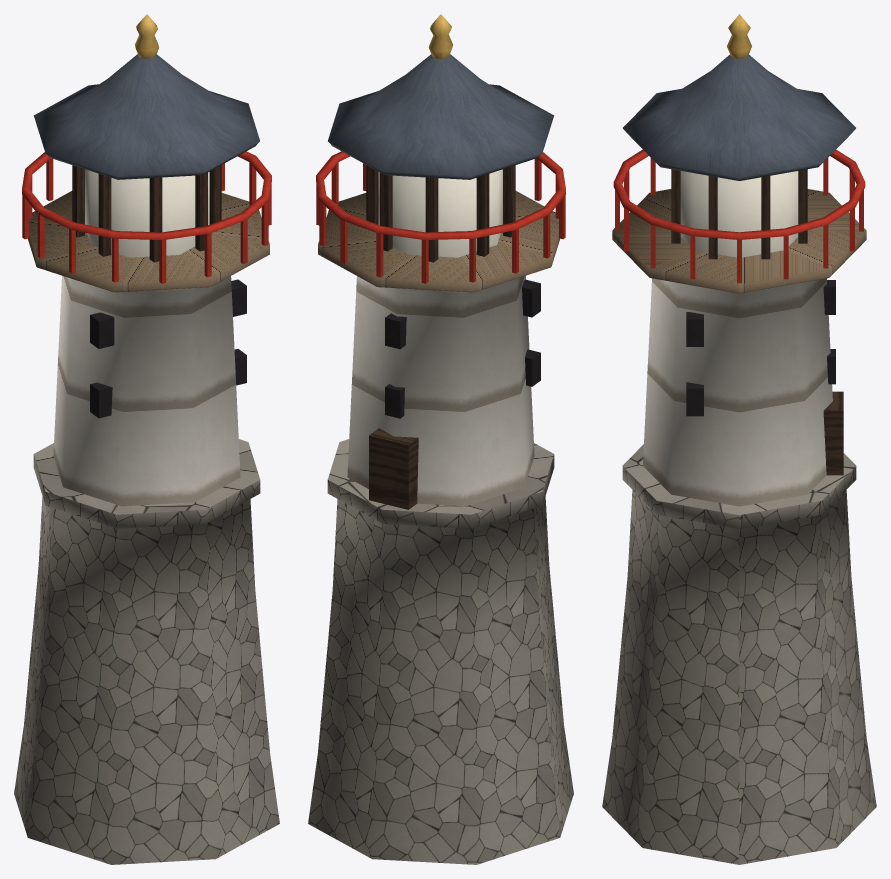
Rendered from HO_Harbour_Lighthouse.fbx.
3 renders of one model, left to right at view 1: azimuth 30°, elevation 25°; view 2: azimuth 150°, elevation 25°; view 3: azimuth 270°, elevation 25°, orthographic.
Visible parts, largest first — view 1: HO_Harbour_Lighthouse__Stone_Fitted, HO_Harbour_Lighthouse__Plaster_White, HO_Harbour_Lighthouse__RoofTile_Clay, HO_Harbour_Lighthouse__Wood_Planks, HO_Harbour_Lighthouse__Red_Lacquer, HO_Harbour_Lighthouse_Glow, HO_Harbour_Lighthouse__Timber_Dark, HO_Harbour_Lighthouse__Black_Lacquer, HO_Harbour_Lighthouse__Gold_Leaf; view 2: HO_Harbour_Lighthouse__Stone_Fitted, HO_Harbour_Lighthouse__Plaster_White, HO_Harbour_Lighthouse__RoofTile_Clay, HO_Harbour_Lighthouse__Wood_Planks, HO_Harbour_Lighthouse__Timber_Dark, HO_Harbour_Lighthouse__Red_Lacquer, HO_Harbour_Lighthouse_Glow, HO_Harbour_Lighthouse__Black_Lacquer, HO_Harbour_Lighthouse__Gold_Leaf; view 3: HO_Harbour_Lighthouse__Stone_Fitted, HO_Harbour_Lighthouse__Plaster_White, HO_Harbour_Lighthouse__RoofTile_Clay, HO_Harbour_Lighthouse__Wood_Planks, HO_Harbour_Lighthouse_Glow, HO_Harbour_Lighthouse__Red_Lacquer, HO_Harbour_Lighthouse__Timber_Dark, HO_Harbour_Lighthouse__Black_Lacquer, HO_Harbour_Lighthouse__Gold_Leaf.
Part boxes in pixels (bbox=[...]): HO_Harbour_Lighthouse__Stone_Fitted: bbox=[14, 439, 279, 864]; HO_Harbour_Lighthouse__Plaster_White: bbox=[53, 275, 240, 506]; HO_Harbour_Lighthouse__RoofTile_Clay: bbox=[33, 54, 259, 179]; HO_Harbour_Lighthouse__Wood_Planks: bbox=[28, 191, 269, 292]; HO_Harbour_Lighthouse__Red_Lacquer: bbox=[22, 151, 271, 283]; HO_Harbour_Lighthouse_Glow: bbox=[85, 169, 209, 257]; HO_Harbour_Lighthouse__Timber_Dark: bbox=[72, 165, 221, 262]; HO_Harbour_Lighthouse__Black_Lacquer: bbox=[90, 279, 246, 418]; HO_Harbour_Lighthouse__Gold_Leaf: bbox=[135, 14, 159, 58]; HO_Harbour_Lighthouse__Stone_Fitted: bbox=[308, 439, 573, 864]; HO_Harbour_Lighthouse__Plaster_White: bbox=[347, 275, 534, 506]; HO_Harbour_Lighthouse__RoofTile_Clay: bbox=[328, 54, 554, 179]; HO_Harbour_Lighthouse__Wood_Planks: bbox=[318, 191, 559, 292]; HO_Harbour_Lighthouse__Timber_Dark: bbox=[366, 165, 515, 509]; HO_Harbour_Lighthouse__Red_Lacquer: bbox=[316, 151, 565, 283]; HO_Harbour_Lighthouse_Glow: bbox=[378, 169, 502, 257]; HO_Harbour_Lighthouse__Black_Lacquer: bbox=[385, 279, 540, 418]; HO_Harbour_Lighthouse__Gold_Leaf: bbox=[428, 14, 452, 58]; HO_Harbour_Lighthouse__Stone_Fitted: bbox=[602, 444, 876, 864]; HO_Harbour_Lighthouse__Plaster_White: bbox=[643, 278, 832, 506]; HO_Harbour_Lighthouse__RoofTile_Clay: bbox=[623, 54, 855, 180]; HO_Harbour_Lighthouse__Wood_Planks: bbox=[612, 189, 866, 293]; HO_Harbour_Lighthouse_Glow: bbox=[680, 171, 798, 257]; HO_Harbour_Lighthouse__Red_Lacquer: bbox=[613, 149, 865, 283]; HO_Harbour_Lighthouse__Timber_Dark: bbox=[671, 169, 843, 475]; HO_Harbour_Lighthouse__Black_Lacquer: bbox=[686, 280, 835, 416]; HO_Harbour_Lighthouse__Gold_Leaf: bbox=[727, 14, 751, 58].
Size of the model in its own units: 10.8 by 34.4 by 10.8.
